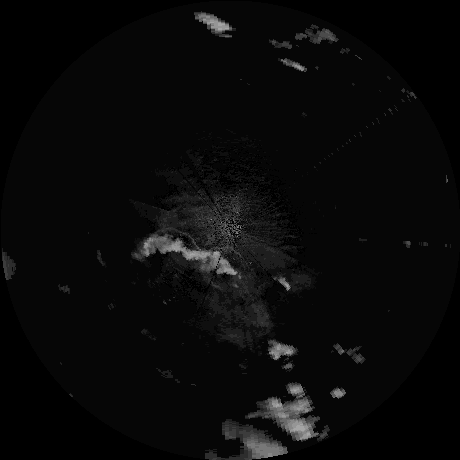frontgust: (150, 227, 206, 248), (209, 244, 249, 264)
